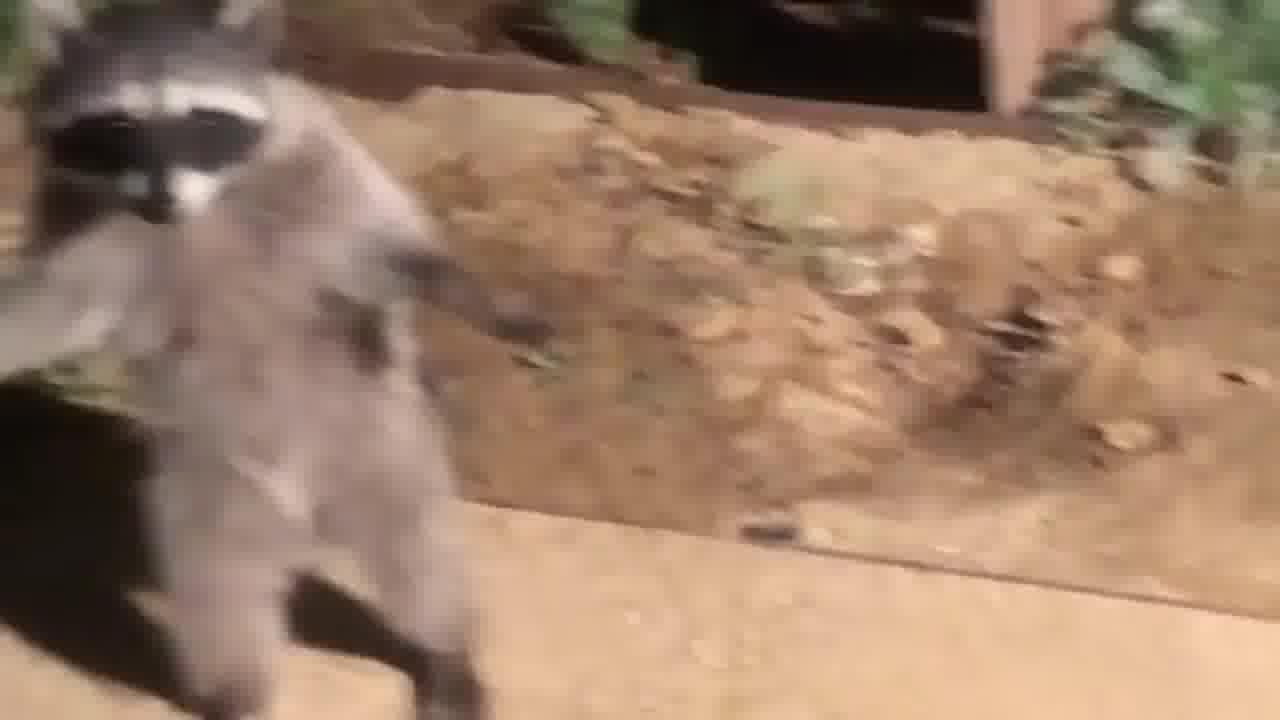raccoon: (0, 0, 578, 720)
